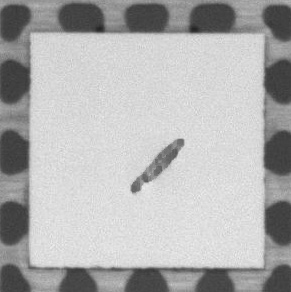DIE_INK: (122, 132, 191, 203)
